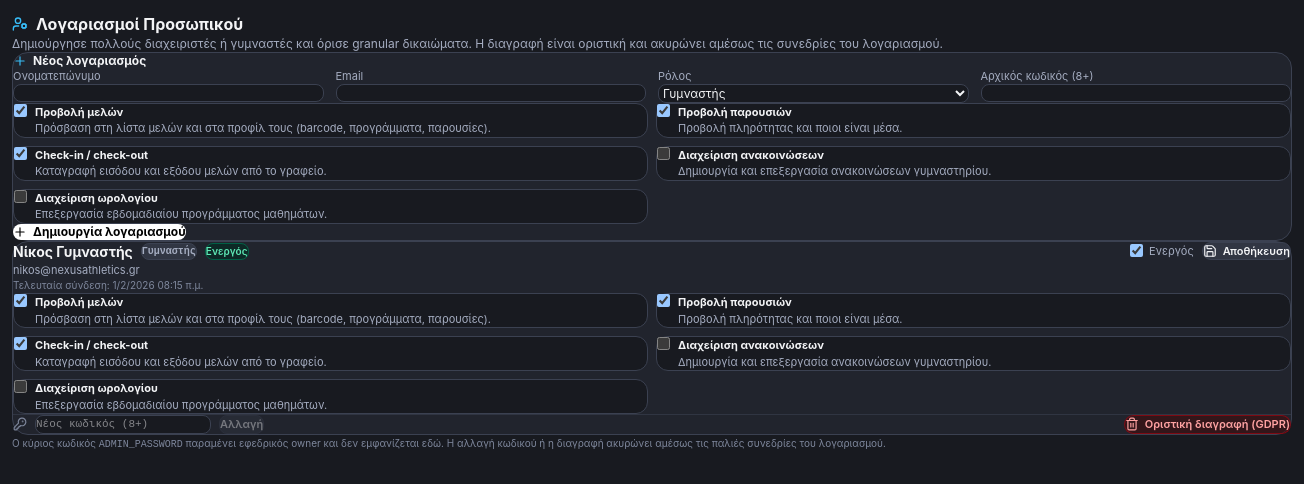
it: StaffTab (staff accounts and permissions) › keeps the account visible when the deletion is refused
Check: the text "Νίκος Γυμναστής" is shown, box 13,242 -> 133,262
Click the button "Οριστική διαγραφή (GDPR)" at [1207, 424], box 1124,415 -> 1291,434
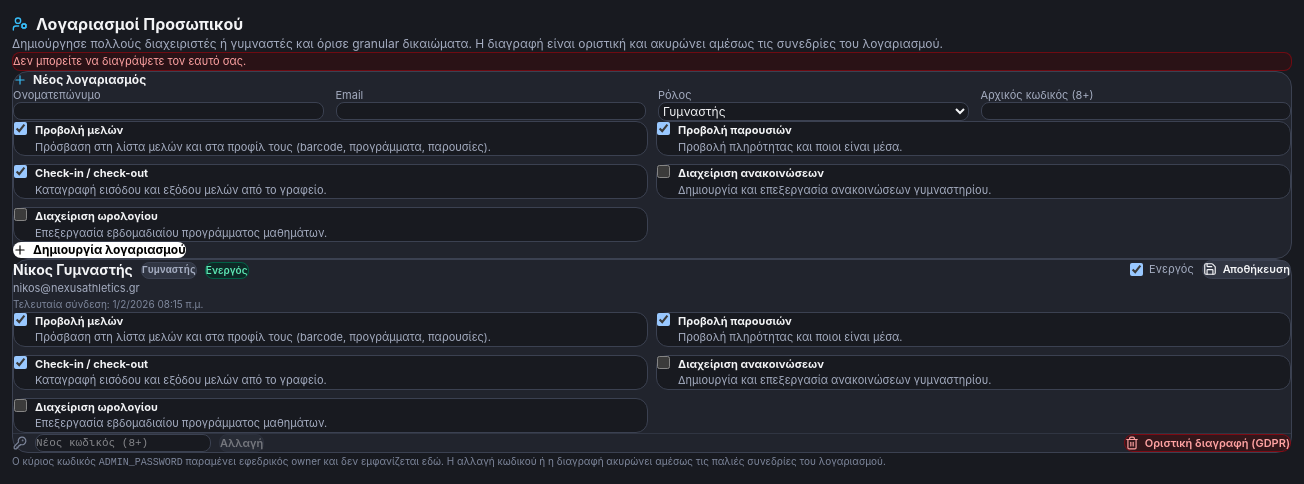
Check: the text "Νίκος Γυμναστής" is shown, box 13,260 -> 133,280
Check: the text "Δεν μπορείτε να διαγράψετε τον εαυτό σας." is shown, box 12,52 -> 1292,70
